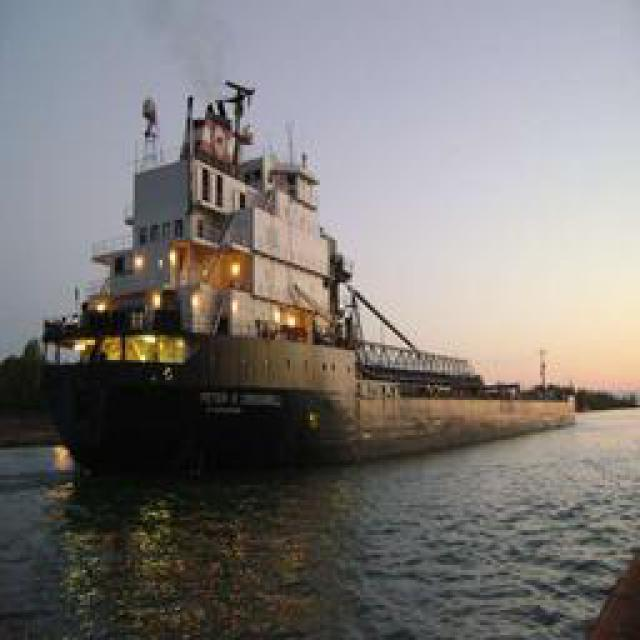Ship: (26, 56, 499, 469)
